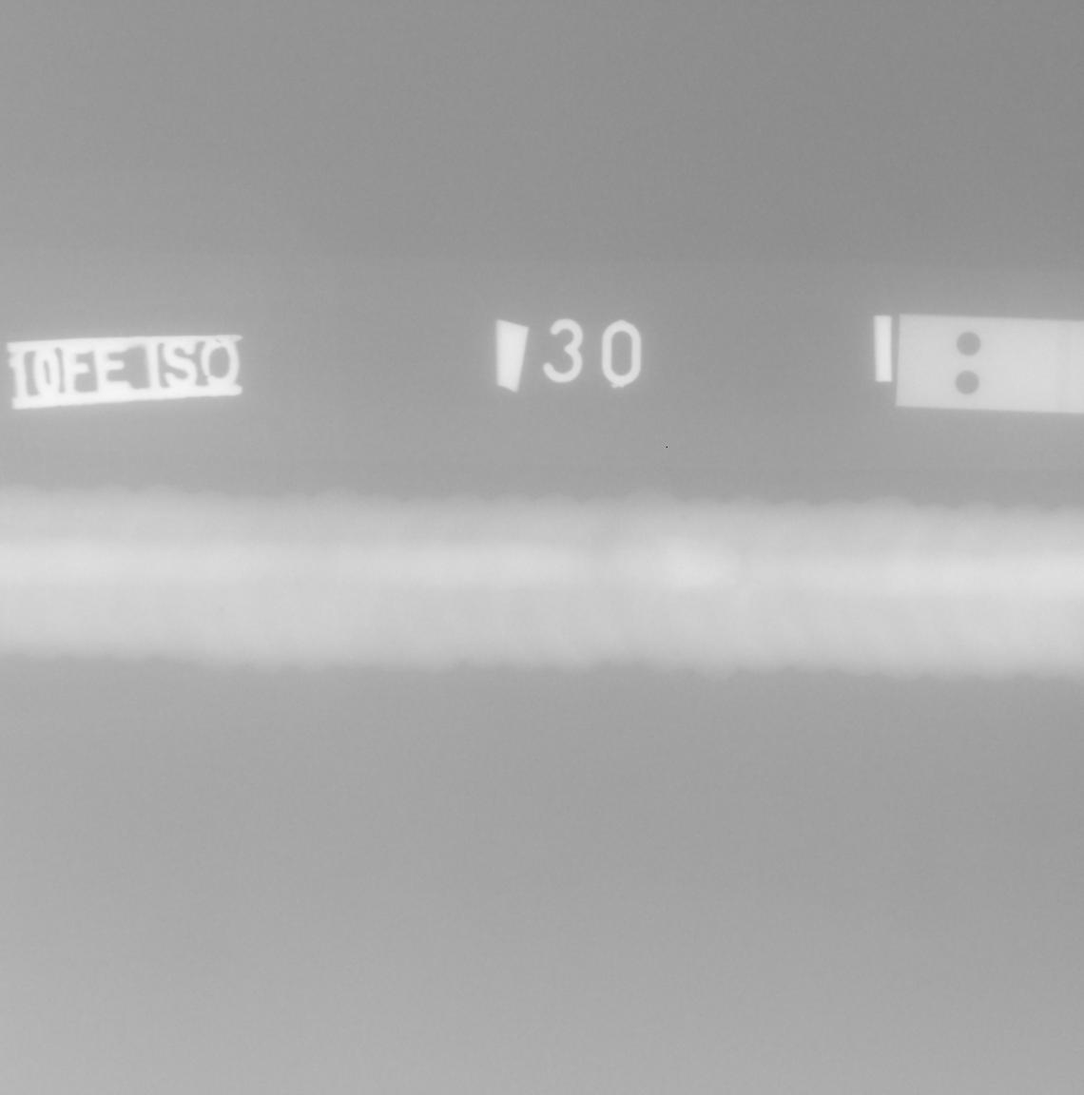Inclusion: (680, 514, 685, 520), (219, 607, 224, 612)
